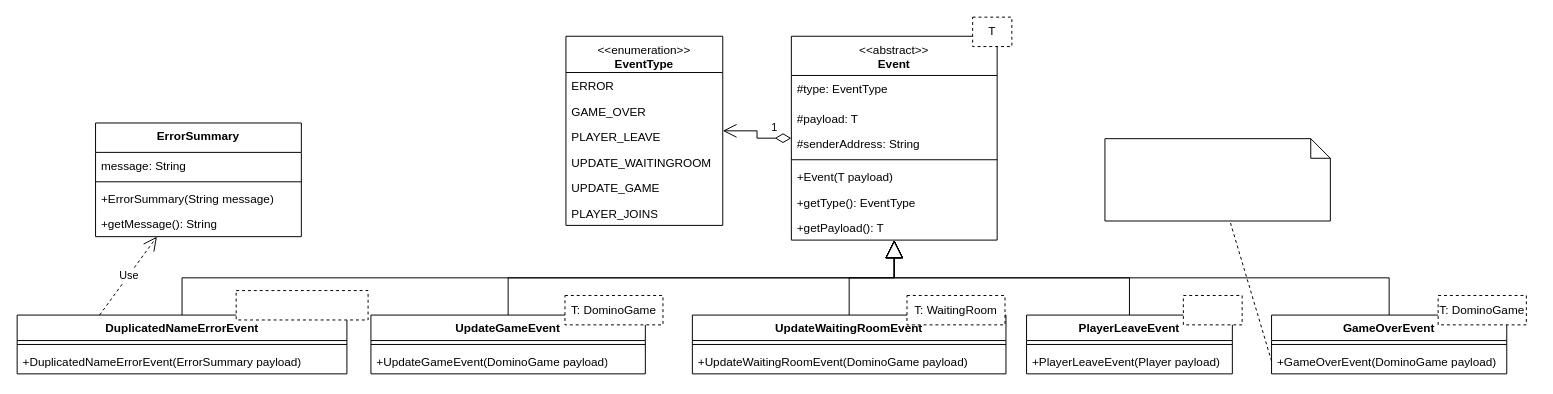
The diagram is 1553 pixels wide and 394 high, and some of its shapes have lost their labels. Here are the shapes that lost their labels. From the top down, the centre of each, then its label:
the point at 1217,179: GameOverEvent(...){ this.type = EventType.GAME_OVER; ... }
the point at 301,305: T: ErrorSummary
the point at 1212,309: T: Player
